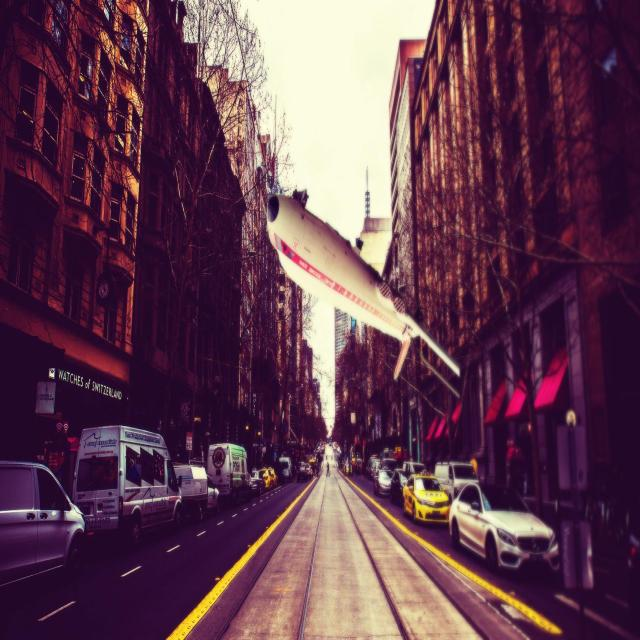airplane: (266, 186, 461, 394)
